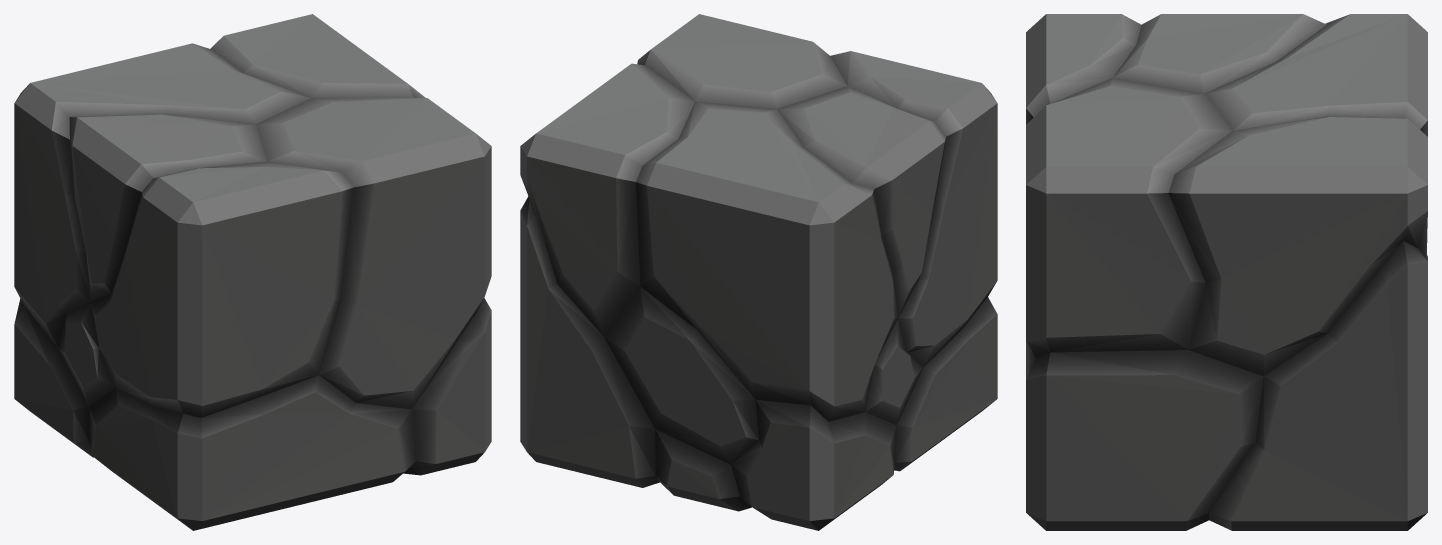
The model's file is m_kub_lava_solid.FBX.
3 renders of one model, left to right at view 1: azimuth 30°, elevation 25°; view 2: azimuth 150°, elevation 25°; view 3: azimuth 270°, elevation 25°, orthographic. The views are drawn at different scales.
Parts seen in each view (by area): view 1: m_kub_lava_solid; view 2: m_kub_lava_solid; view 3: m_kub_lava_solid.
Boxes of the visible parts, bbox=[...] form: m_kub_lava_solid: bbox=[14, 14, 491, 530]; m_kub_lava_solid: bbox=[520, 14, 997, 530]; m_kub_lava_solid: bbox=[1026, 14, 1427, 530].
Bounding box in the file's own units: 2 × 2 × 2.
